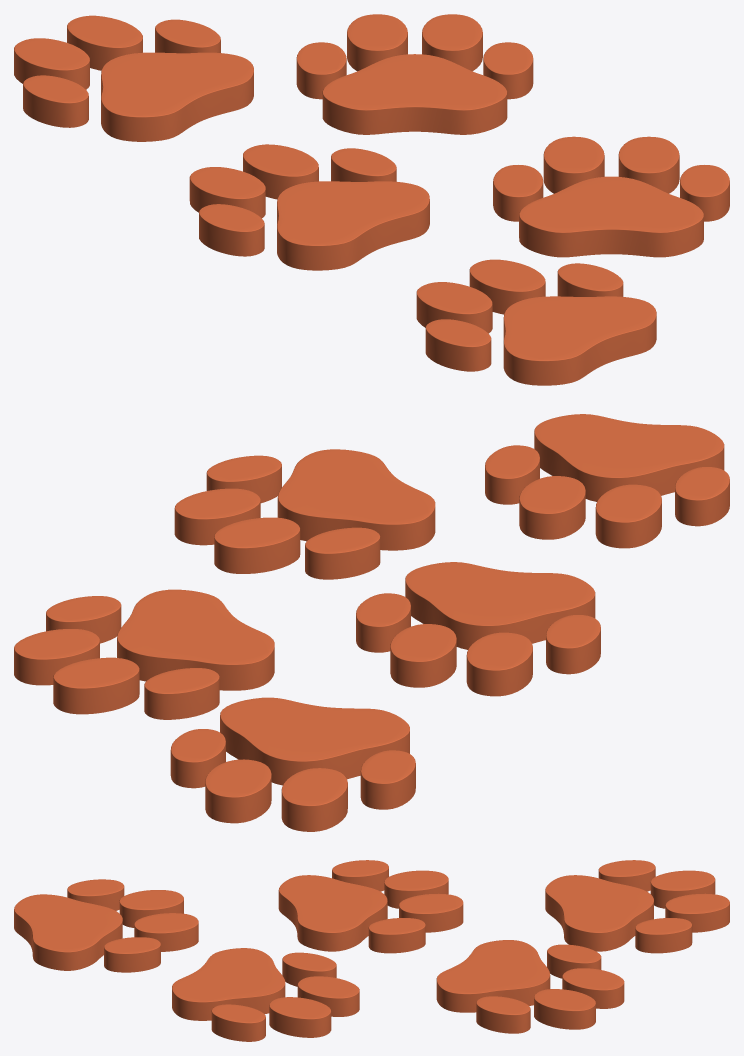
File: Isl_1_Path_of_Paws_1.fbx
The picture shows the model from 3 angles, top to bottom: view 1: azimuth 30°, elevation 25°; view 2: azimuth 150°, elevation 25°; view 3: azimuth 270°, elevation 25°; orthographic projection. The views are drawn at different scales.
Visible parts, largest first — view 1: Isl_1_Path_of_Paws_1; view 2: Isl_1_Path_of_Paws_1; view 3: Isl_1_Path_of_Paws_1.
Part boxes in pixels (x1,y1,x2,y2): Isl_1_Path_of_Paws_1: [14, 14, 729, 385]; Isl_1_Path_of_Paws_1: [14, 414, 729, 831]; Isl_1_Path_of_Paws_1: [14, 860, 729, 1041].
Size of the model in its own units: 209 by 11.3 by 389.
